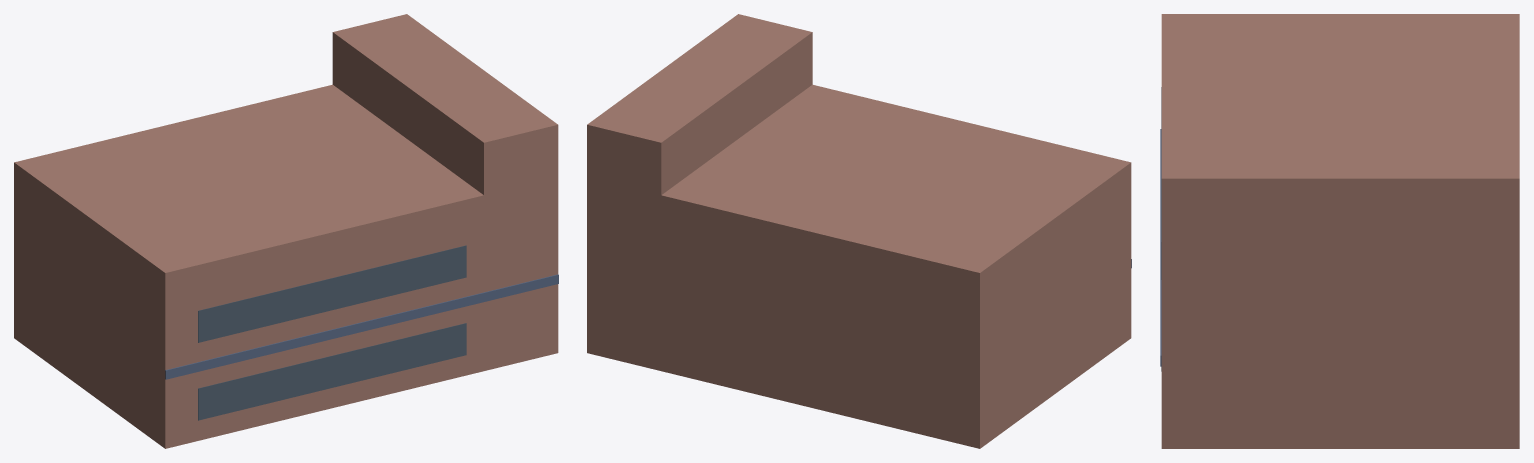
File: police-station.lod2.glb
3 renders of one model, left to right at view 1: azimuth 30°, elevation 25°; view 2: azimuth 150°, elevation 25°; view 3: azimuth 270°, elevation 25°, orthographic. The views are drawn at different scales.
Visible parts, largest first — view 1: police-station; view 2: police-station; view 3: police-station.
Boxes of the visible parts, left/top/right/bottom form: police-station: left=14, top=14, right=558, bottom=448; police-station: left=587, top=14, right=1131, bottom=448; police-station: left=1160, top=14, right=1519, bottom=448.
Bounding box in the file's own units: 18 × 10 × 12.05.
